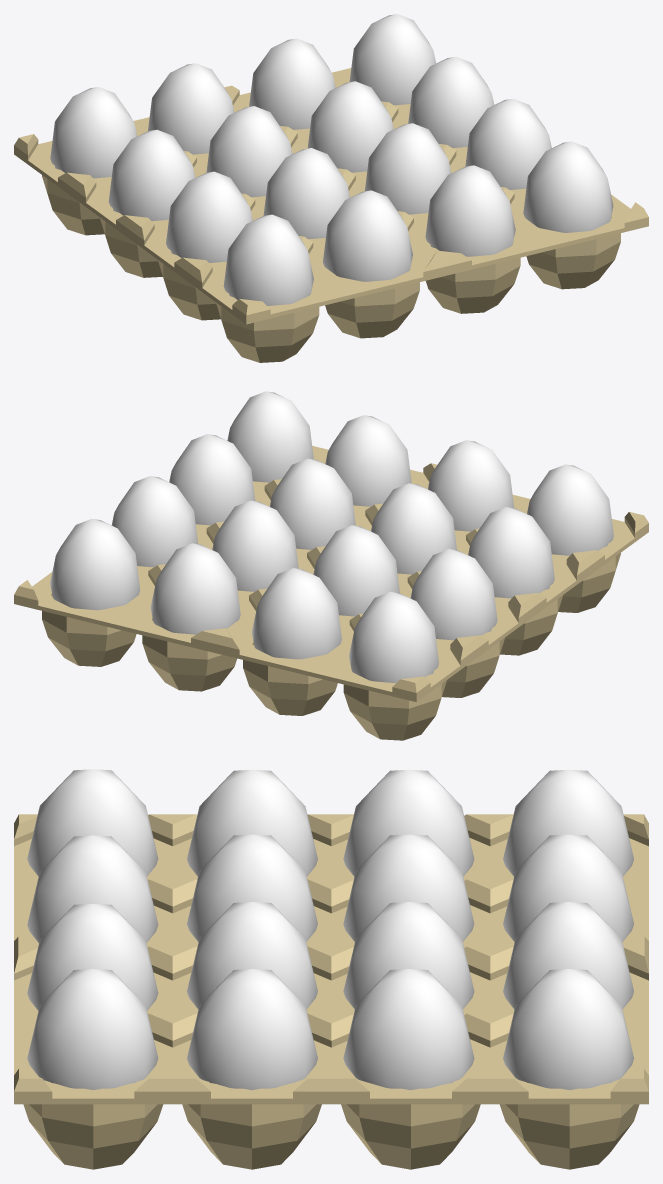
File: eggcartonfbx.fbx
The picture shows the model from 3 angles, top to bottom: view 1: azimuth 30°, elevation 25°; view 2: azimuth 150°, elevation 25°; view 3: azimuth 270°, elevation 25°; orthographic projection. The views are drawn at different scales.
Visible parts, largest first — view 1: Cube.052; view 2: Cube.052; view 3: Cube.052.
Boxes of the visible parts, <box> form: Cube.052: <box>14,14,648,362</box>; Cube.052: <box>14,391,648,740</box>; Cube.052: <box>14,769,648,1169</box>.
Bounding box in the file's own units: 53.61 × 17.21 × 53.6.
